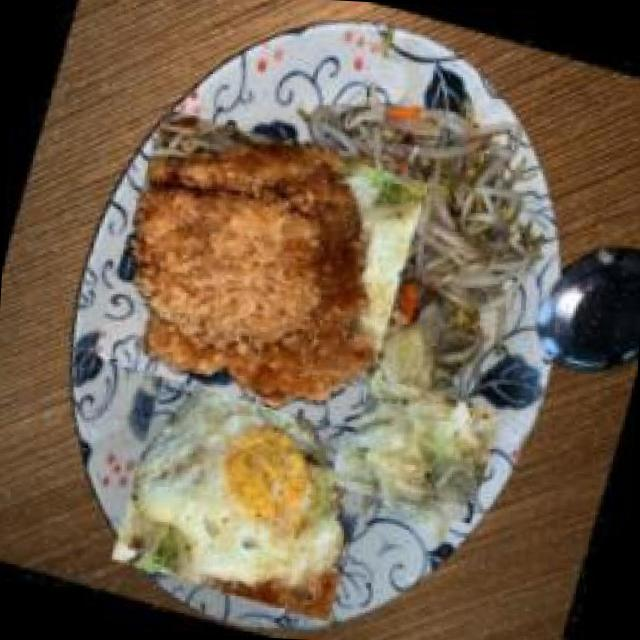chinese_cabbage: (332, 366, 500, 534)
fried_chicken: (89, 101, 431, 443)
fried_eggs: (106, 330, 399, 628)
mung_bean_sprouts: (372, 123, 552, 354)
